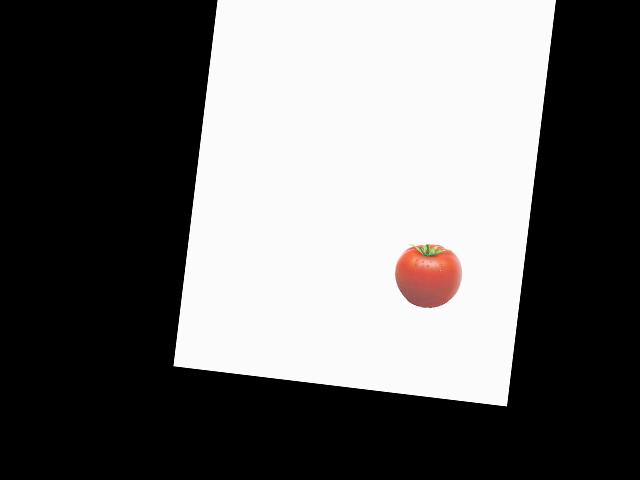tomato: (391, 240, 457, 310)
